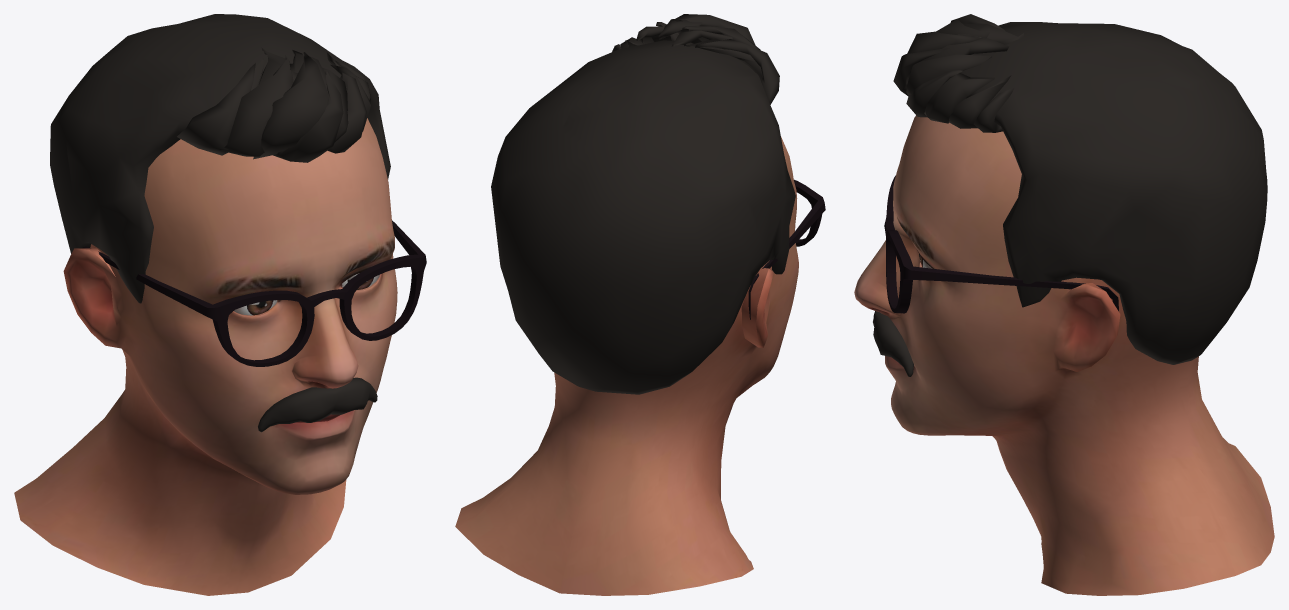
The picture shows the model from 3 angles, left to right: view 1: azimuth 30°, elevation 25°; view 2: azimuth 150°, elevation 25°; view 3: azimuth 270°, elevation 25°; orthographic projection. The views are drawn at different scales.
Visible parts, largest first — view 1: Wolf3D_Head, Wolf3D_Hair, Wolf3D_Glasses, Wolf3D_Beard; view 2: Wolf3D_Hair, Wolf3D_Head, Wolf3D_Glasses; view 3: Wolf3D_Head, Wolf3D_Hair, Wolf3D_Glasses, Wolf3D_Beard.
Boxes of the visible parts, left/top/right/bottom form: Wolf3D_Head: left=14, top=118, right=397, bottom=595; Wolf3D_Hair: left=50, top=14, right=390, bottom=303; Wolf3D_Glasses: left=82, top=220, right=426, bottom=366; Wolf3D_Beard: left=258, top=377, right=377, bottom=432; Wolf3D_Hair: left=491, top=14, right=795, bottom=394; Wolf3D_Head: left=455, top=137, right=798, bottom=595; Wolf3D_Glasses: left=748, top=179, right=825, bottom=319; Wolf3D_Head: left=854, top=115, right=1274, bottom=595; Wolf3D_Hair: left=893, top=14, right=1267, bottom=364; Wolf3D_Glasses: left=884, top=175, right=1118, bottom=313; Wolf3D_Beard: left=873, top=311, right=913, bottom=376.
Bounding box in the file's own units: 0.1919 × 0.3277 × 0.2291.
Materials: 6 (6 with a texture image).
